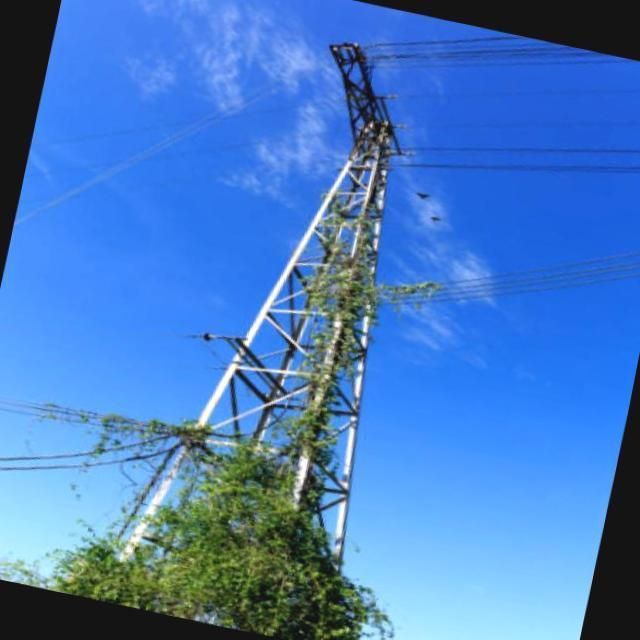critical vegetation: (69, 28, 482, 640), (126, 190, 431, 639)
